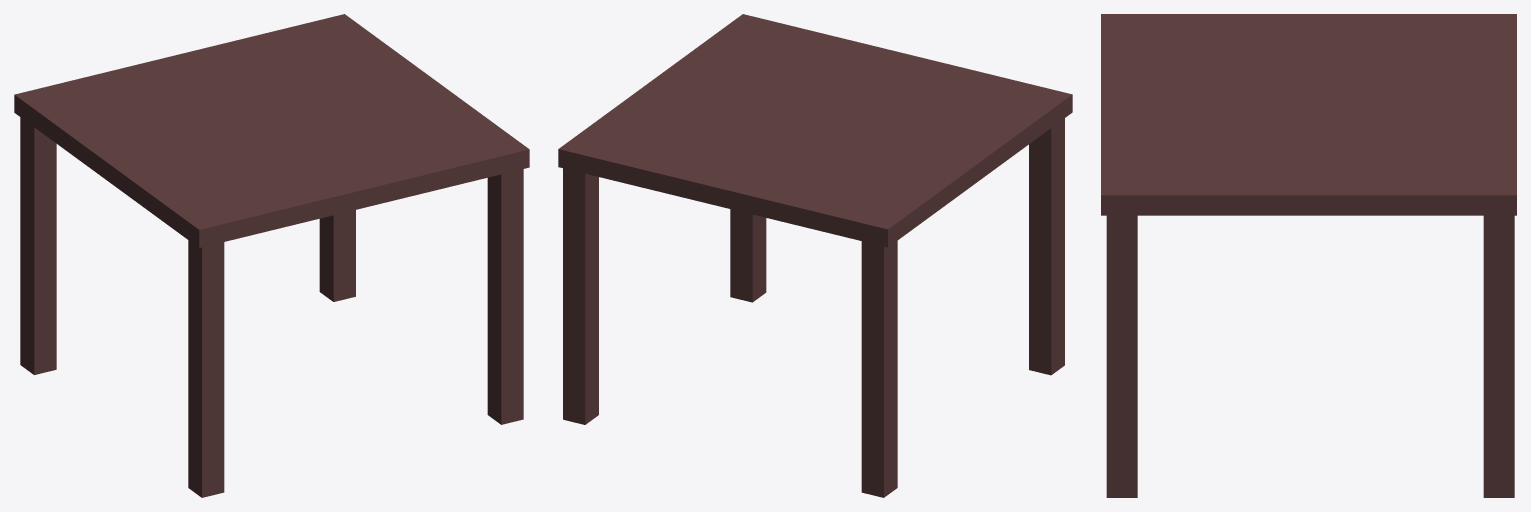
The model's file is table2.obj.
3 views of the same model, side by side, from view 1: azimuth 30°, elevation 25°; view 2: azimuth 150°, elevation 25°; view 3: azimuth 270°, elevation 25° (orthographic). The views are drawn at different scales.
Visible parts, largest first — view 1: table2; view 2: table2; view 3: table2.
Part boxes in pixels (left/top/right/bottom): table2: left=14, top=14, right=529, bottom=497; table2: left=558, top=14, right=1072, bottom=497; table2: left=1101, top=14, right=1516, bottom=497.
Bounding box in the file's own units: 0.9306 × 0.7296 × 0.9023.
